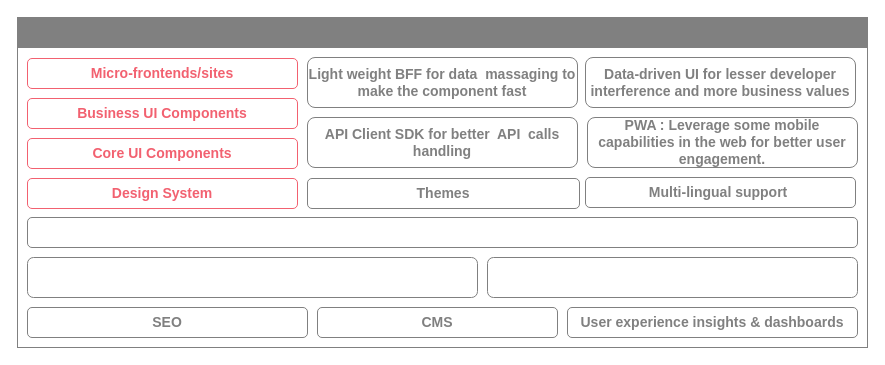
Some shapes in this 885 by 365 pixel diagram are drawn without their labels. The centre of each missing label's shape, as x and y in pixels:
Automated Testing : Unit testing, Visual Regression testing, e2e testing: point 252,277
Configurations at various levels for functionality: point 442,232
Experience UI platform: point 442,32
Security : Checks for End of life, modules used: point 672,277
